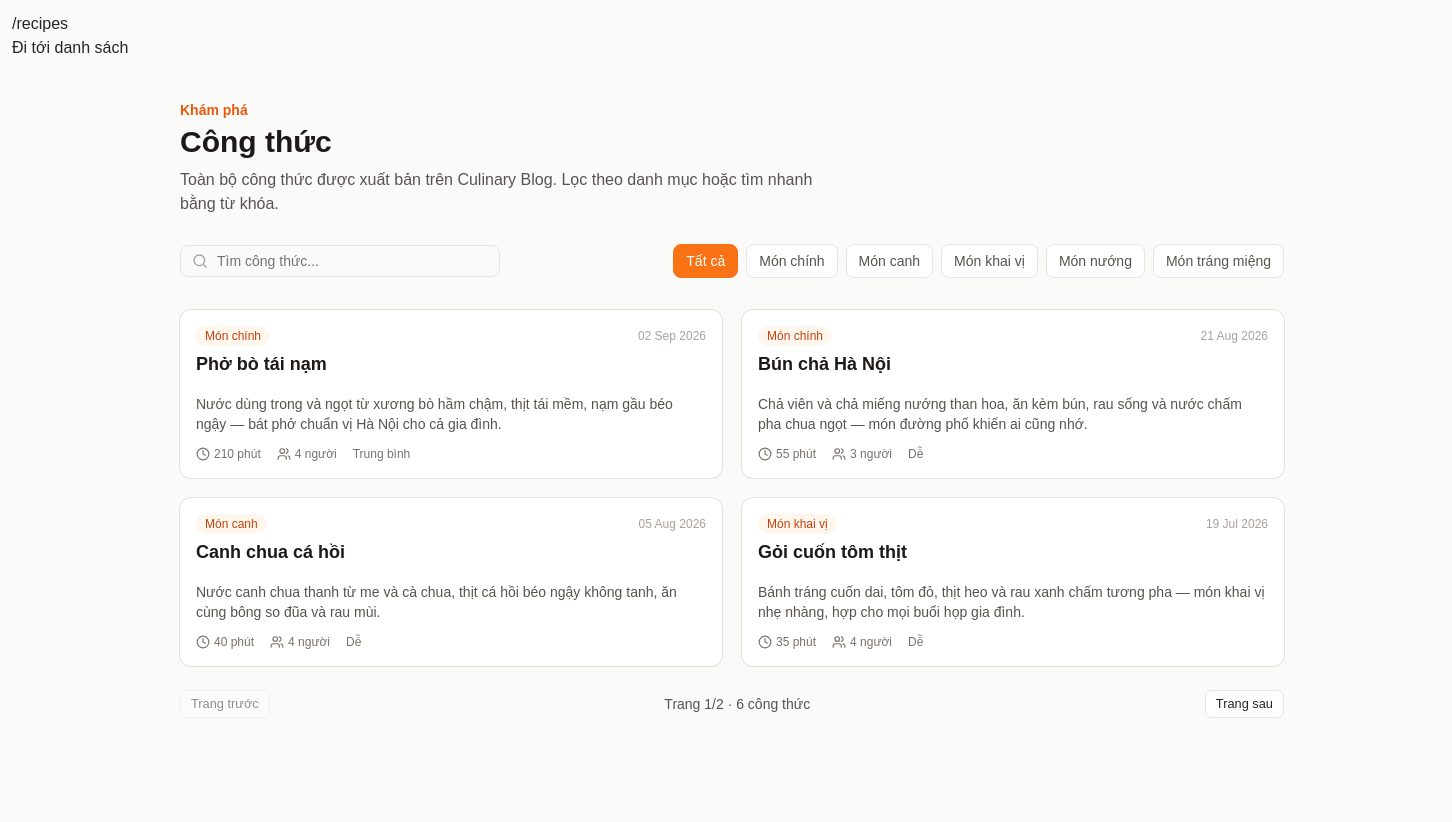
Test: RecipesBrowsePage › moves to the second page
The image size is (1452, 822).
Expected: the heading "Phở bò tái nạm" is shown, [196,354,327,374]
What coordinates should you click on to do the following:
click the button "Trang sau"
I would click on:
 (1244, 704)
Its box is [1205,690,1284,718].
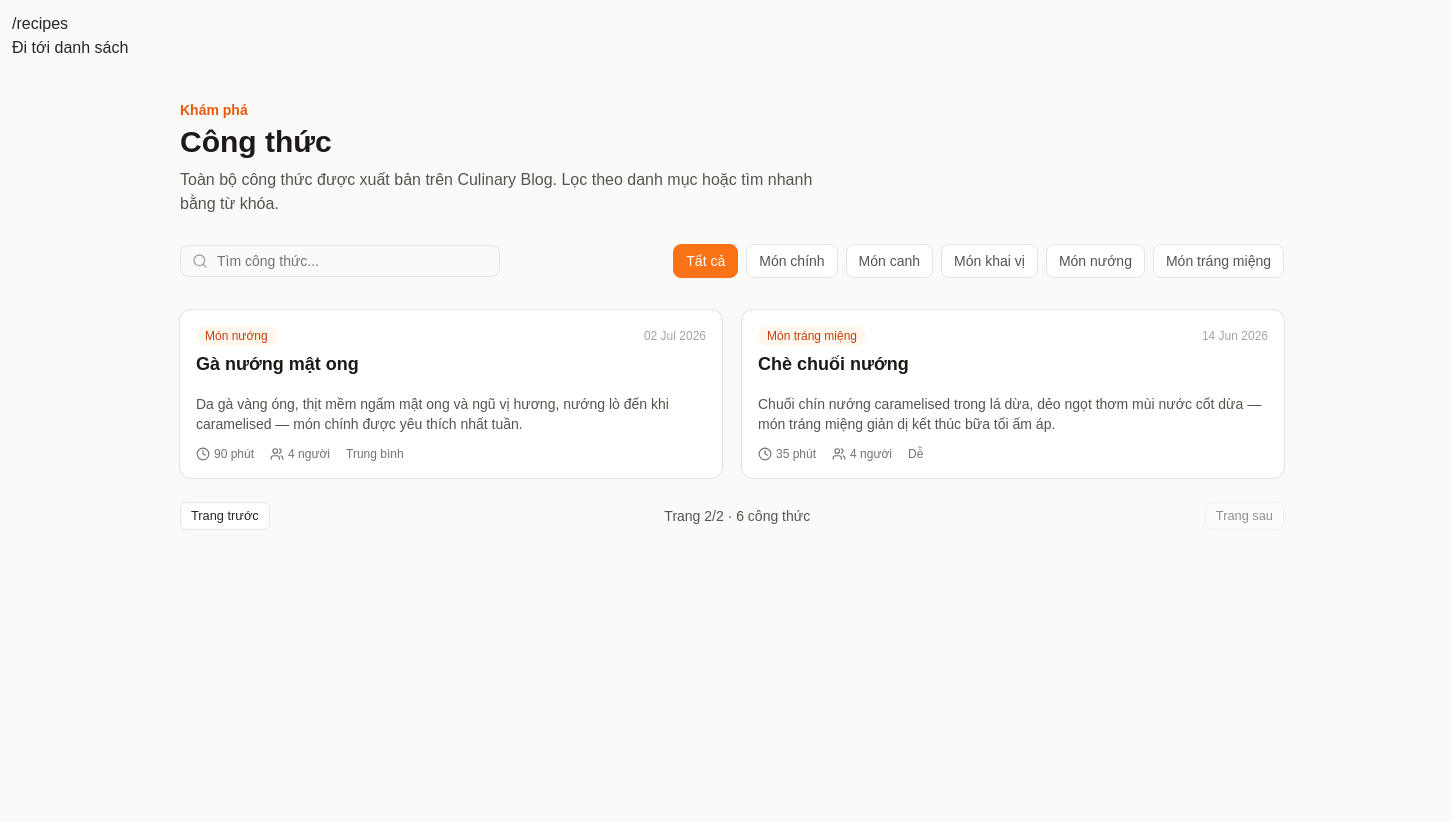
Now the heading "Gà nướng mật ong" is shown, box [196,354,359,374]
Now the link "Phở bò tái nạm" is gone
